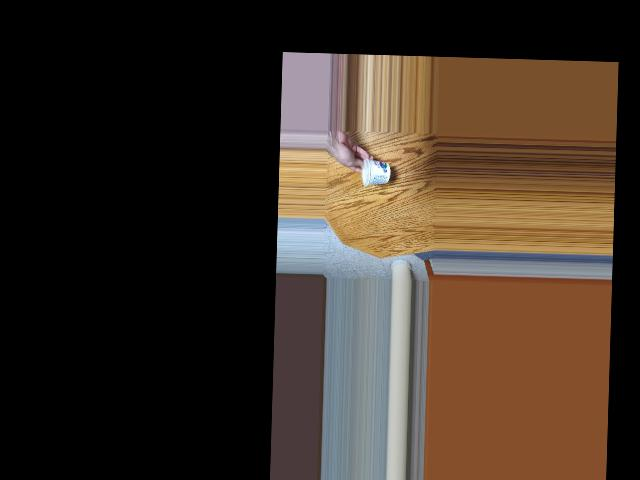cotage: (355, 155, 389, 191)
